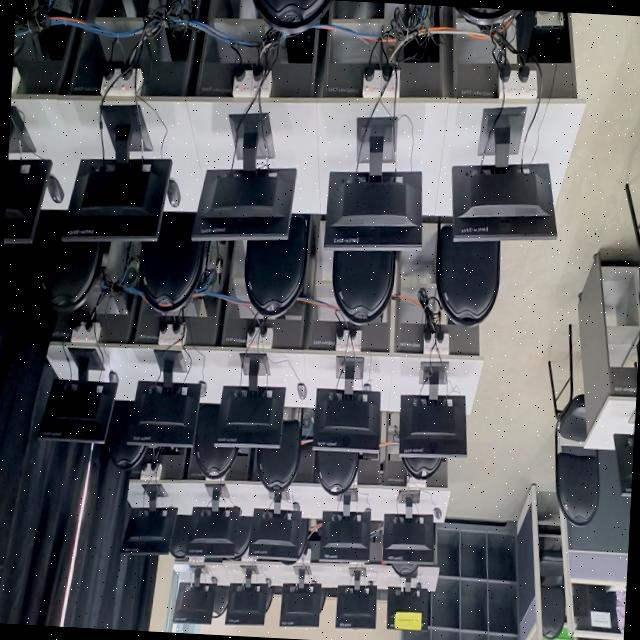Chair: (548, 325, 600, 526), (140, 213, 209, 314), (436, 219, 500, 327), (244, 216, 310, 317), (43, 229, 100, 313), (332, 251, 396, 324), (257, 421, 301, 495), (195, 406, 238, 479), (106, 401, 147, 470), (539, 538, 566, 640), (253, 0, 331, 34), (315, 451, 360, 496), (454, 7, 522, 27), (170, 516, 193, 558), (402, 458, 444, 480), (232, 516, 253, 558)
Cpu: (382, 4, 434, 62), (167, 0, 196, 15), (536, 11, 563, 26), (168, 22, 187, 42)
Monitor: (61, 160, 172, 241), (453, 164, 556, 241), (324, 172, 422, 251), (127, 350, 205, 447), (192, 170, 296, 241), (213, 355, 285, 447), (38, 377, 118, 443), (399, 396, 467, 460), (313, 389, 381, 453), (4, 160, 52, 243), (248, 504, 308, 564), (122, 490, 177, 555), (383, 514, 437, 572), (186, 507, 241, 557), (320, 512, 372, 562), (280, 584, 326, 627), (225, 584, 272, 625), (387, 588, 431, 631), (173, 583, 218, 625), (336, 585, 377, 628), (614, 435, 634, 496)
Mouse: (47, 176, 65, 204), (167, 179, 181, 208), (298, 383, 307, 400), (109, 371, 119, 384), (199, 381, 207, 397), (434, 508, 442, 520)
